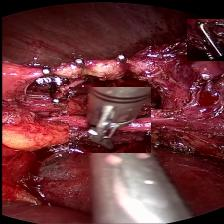Clipper: (68, 87, 150, 153)
Grasper: (186, 19, 224, 61)
